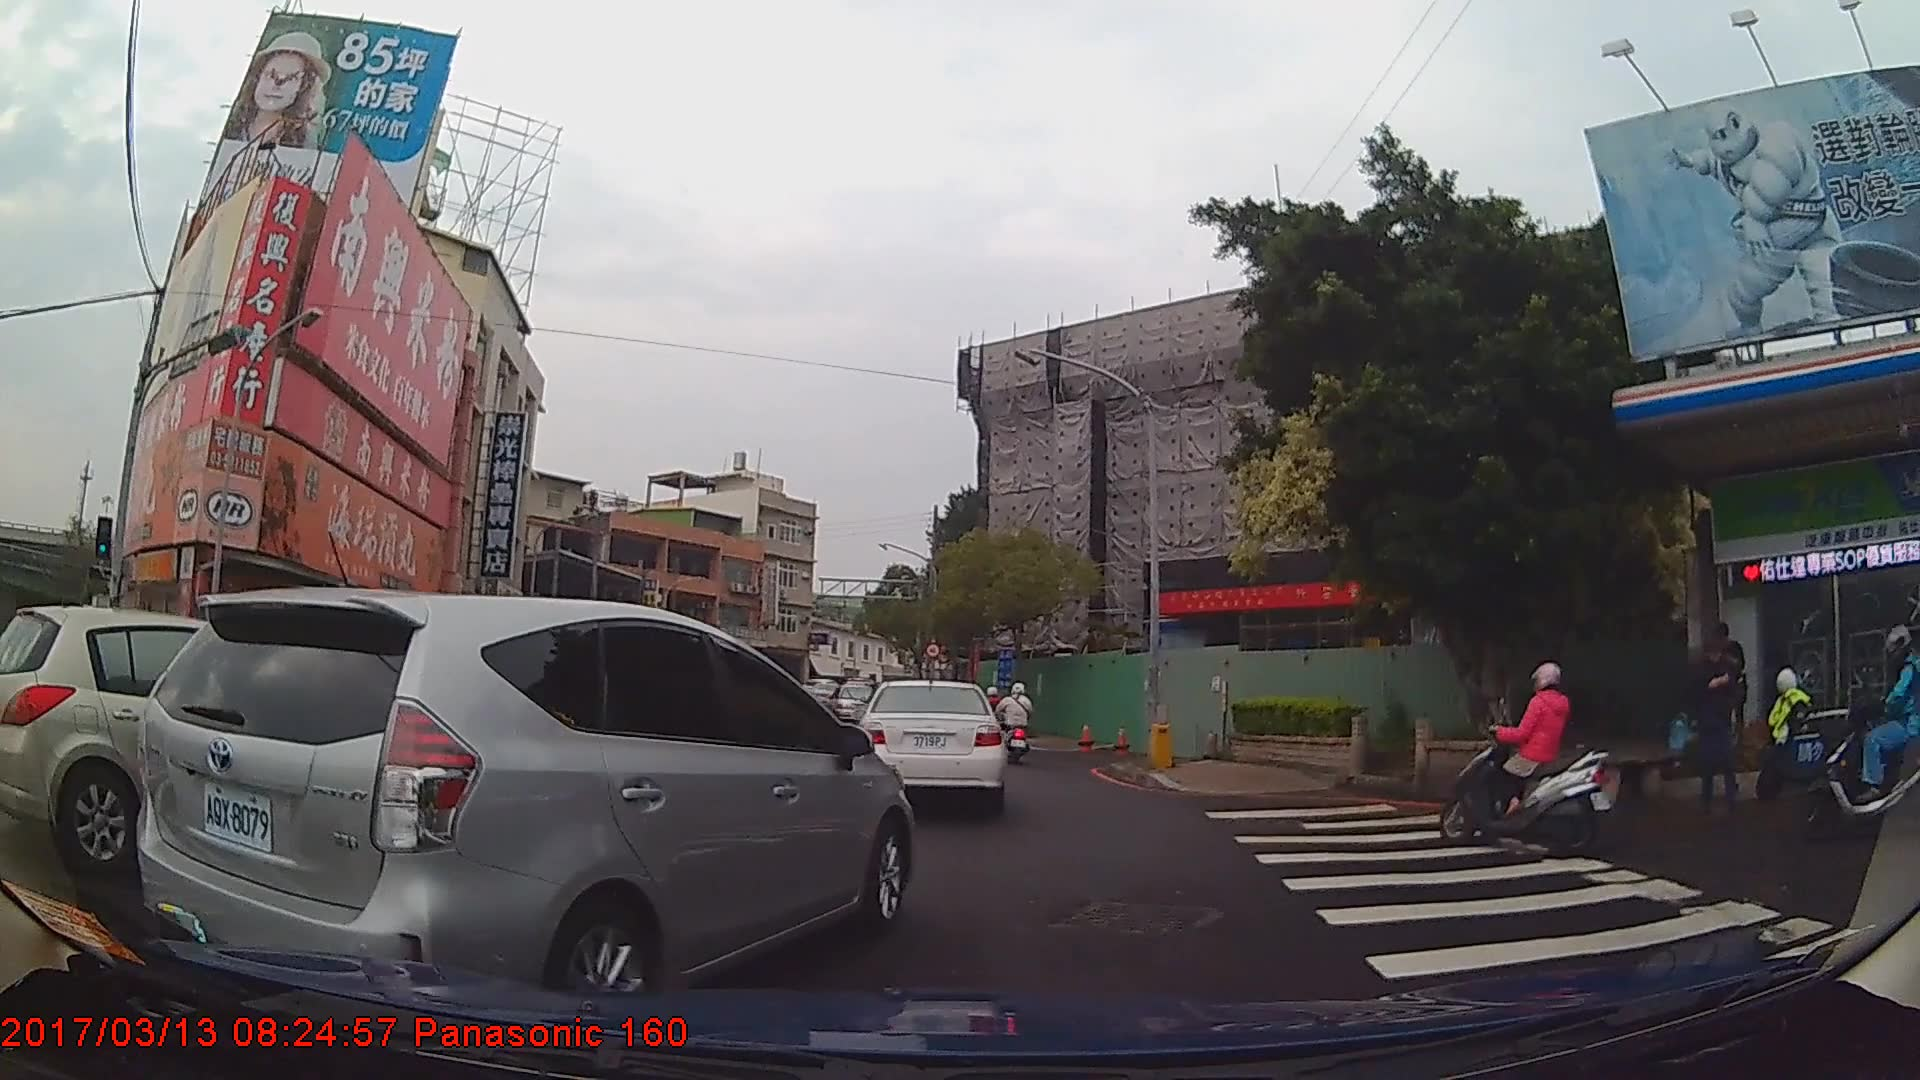pedestrian: (1684, 626, 1743, 814), (1697, 620, 1748, 748)
rider: (1427, 664, 1609, 848), (1797, 622, 1920, 840), (998, 681, 1034, 763)
vehicle: (132, 585, 919, 1013), (0, 603, 390, 870), (856, 677, 1009, 814)
